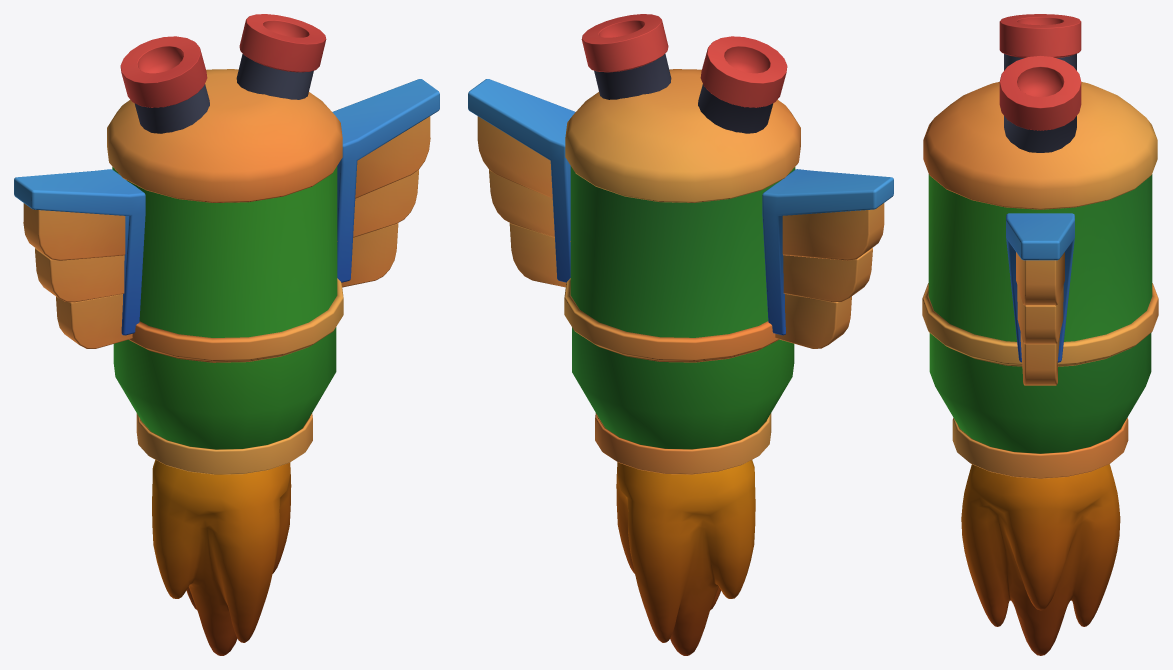
Rendered from Aeroplane.fbx.
3 views of the same model, side by side, from view 1: azimuth 30°, elevation 25°; view 2: azimuth 150°, elevation 25°; view 3: azimuth 270°, elevation 25° (orthographic).
Visible parts, largest first — view 1: pCylinder1, Fire_Fire_1, pCube6, pCube5, pCylinder3, pCylinder2; view 2: pCylinder1, Fire_Fire_1, pCube6, pCube5, pCylinder3, pCylinder2; view 3: pCylinder1, Fire_Fire_1, pCube5, pCylinder2, pCylinder3.
Part boxes in pixels (left/top/right/bottom): pCylinder1: left=107, top=69, right=343, bottom=474; Fire_Fire_1: left=152, top=460, right=291, bottom=655; pCube6: left=14, top=169, right=145, bottom=348; pCube5: left=332, top=79, right=439, bottom=287; pCylinder3: left=120, top=36, right=209, bottom=133; pCylinder2: left=236, top=14, right=326, bottom=99; pCylinder1: left=564, top=69, right=800, bottom=474; Fire_Fire_1: left=616, top=460, right=755, bottom=655; pCube6: left=762, top=169, right=893, bottom=348; pCube5: left=468, top=79, right=575, bottom=287; pCylinder3: left=698, top=36, right=787, bottom=133; pCylinder2: left=581, top=14, right=671, bottom=99; pCylinder1: left=922, top=82, right=1158, bottom=478; Fire_Fire_1: left=961, top=464, right=1120, bottom=655; pCube5: left=1006, top=213, right=1074, bottom=385; pCylinder2: left=999, top=56, right=1081, bottom=152; pCylinder3: left=999, top=14, right=1081, bottom=70.
Bounding box in the file's own units: 86.78 × 126 × 43.95.
Materials: 1 (1 with a texture image).
